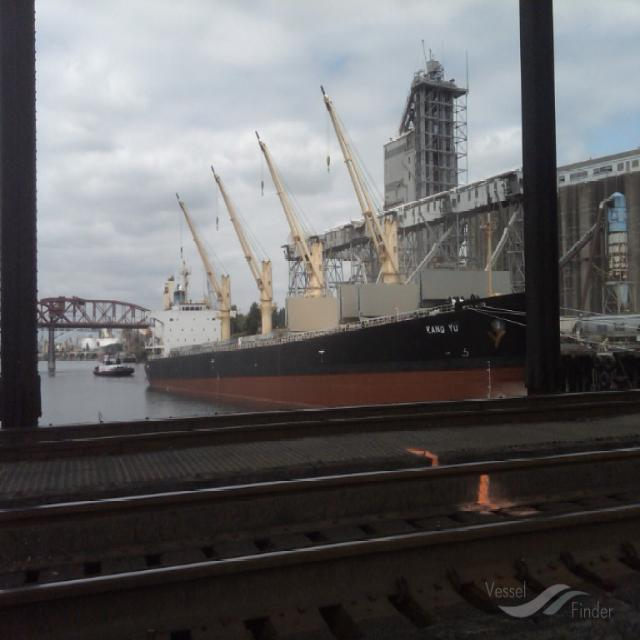OCR: (424, 318, 459, 340)
